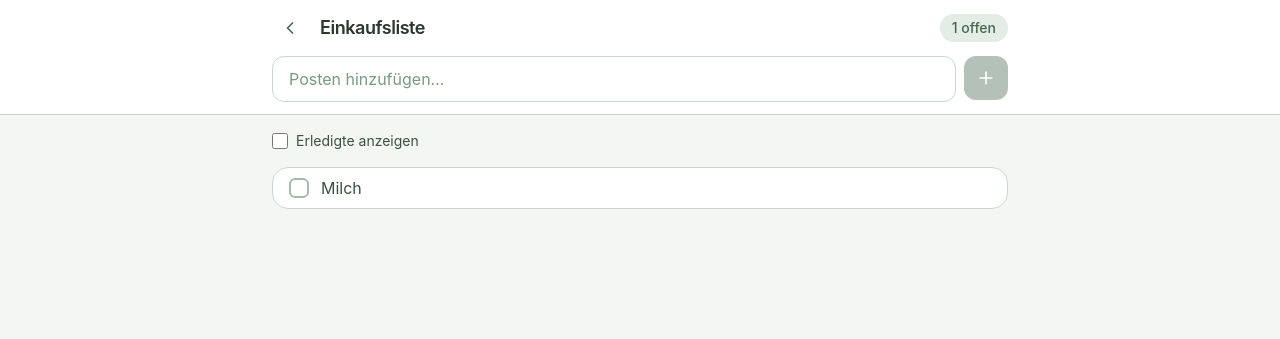
it: Einkaufsliste-Detailseite › completing an open item live-moves it into an already-visible done list
Click the checkbox labelled "Erledigte anzeigen".
click(280, 141)  # box [272,133,288,149]
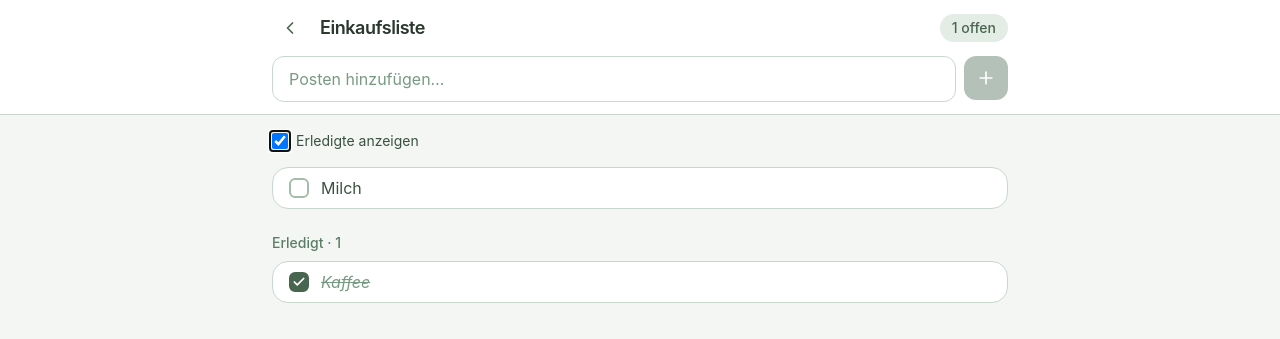
Result: the button named "Kaffee wieder öffnen" is shown at [289,272,309,292]
Click the button named "Milch abhaken".
click(299, 188)  # box [289,178,309,198]
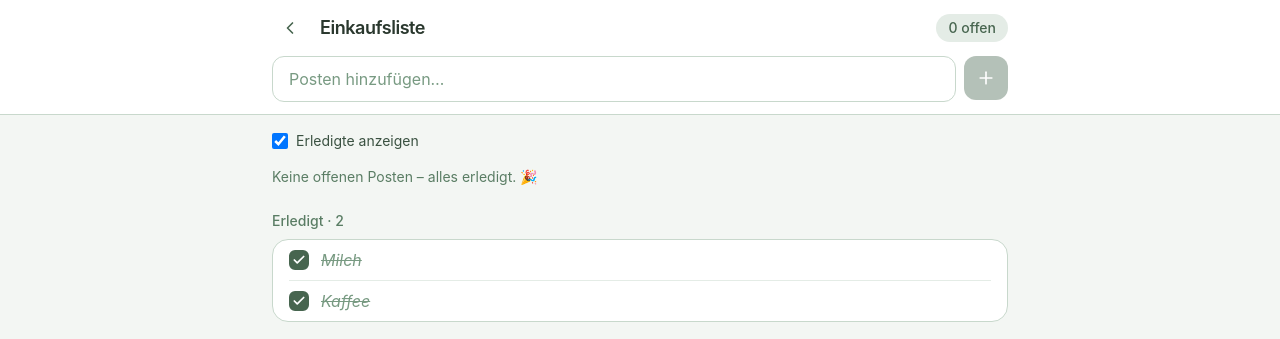
Result: the button named "Milch wieder öffnen" is shown at [289,250,309,270]
Result: the heading "Erledigt · 2" is shown at [272,212,344,229]
